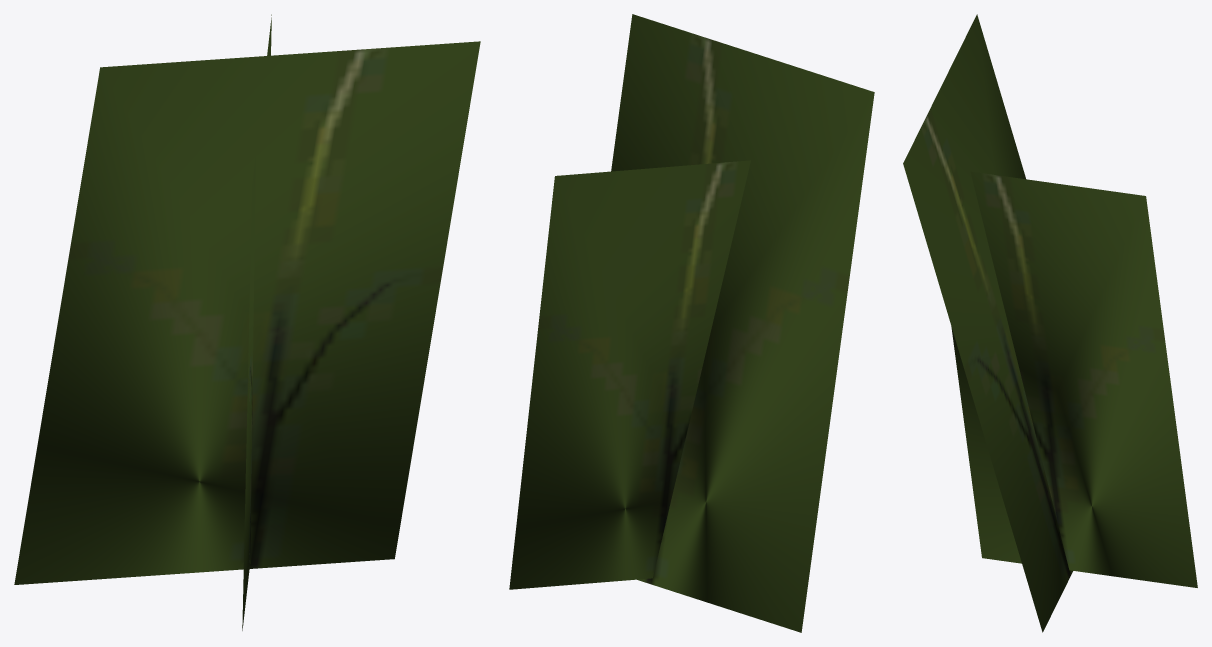
The model's file is swmp_shor_cattail_blue_sm_l1.fbx.
The picture shows the model from 3 angles, left to right: view 1: azimuth 30°, elevation 25°; view 2: azimuth 150°, elevation 25°; view 3: azimuth 270°, elevation 25°; orthographic projection. The views are drawn at different scales.
Parts seen in each view (by area): view 1: mesh_node; view 2: mesh_node; view 3: mesh_node.
Boxes of the visible parts, x1,y1,x2,y2 form: mesh_node: (14,14,480,630); mesh_node: (509,14,874,632); mesh_node: (903,14,1197,632).
Bounding box in the file's own units: 1.17 × 2.02 × 1.11.
